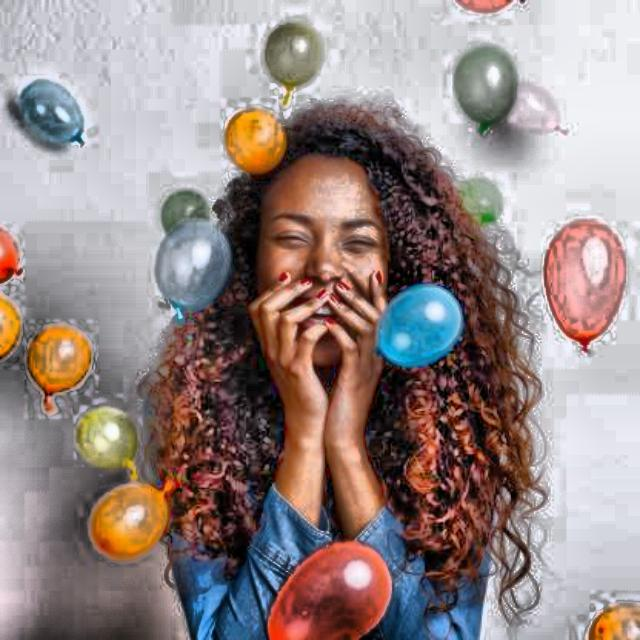happy: (159, 101, 529, 519)
